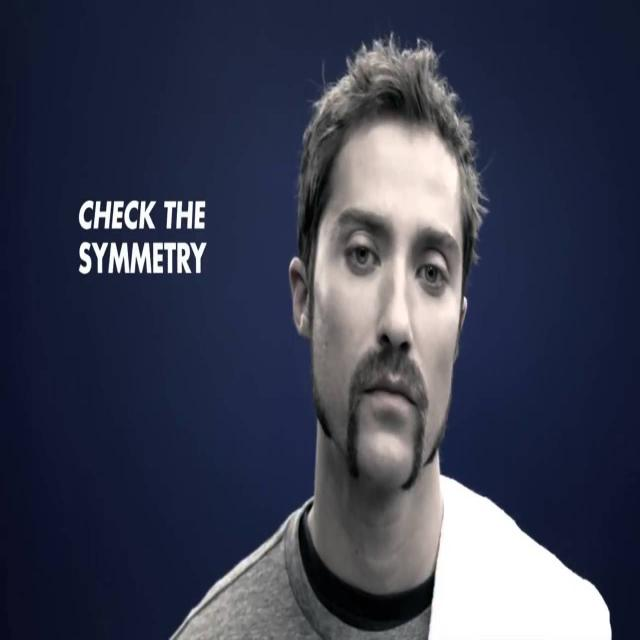beard: (346, 341, 445, 490), (313, 372, 332, 439)
hair: (298, 33, 487, 280)
